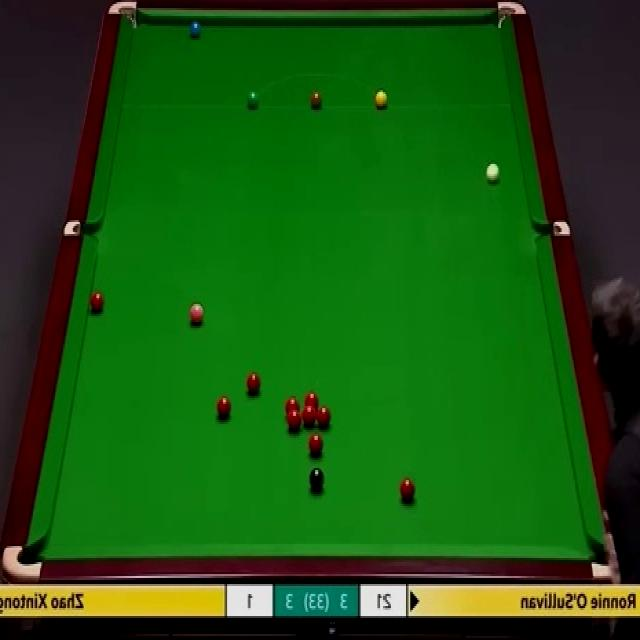pocket: (4, 543, 45, 580), (106, 0, 140, 32), (495, 0, 529, 29), (65, 218, 99, 237), (589, 544, 606, 578), (536, 221, 572, 237)
